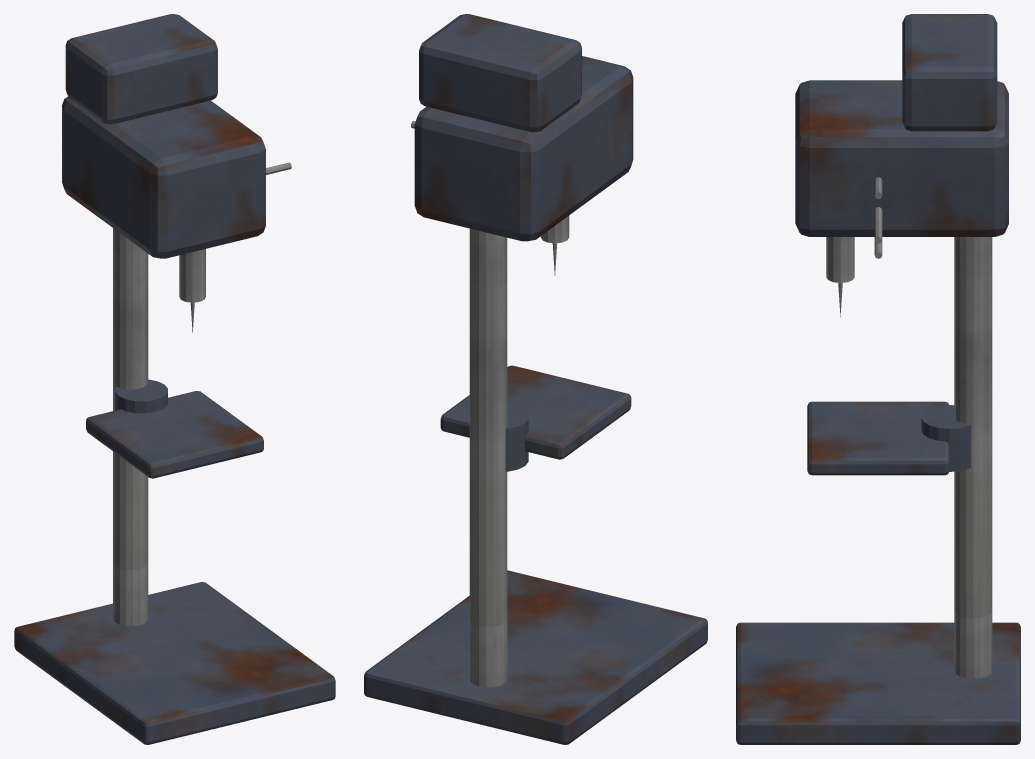
The model's file is HM10_DrillPress.glb.
The picture shows the model from 3 angles, left to right: view 1: azimuth 30°, elevation 25°; view 2: azimuth 150°, elevation 25°; view 3: azimuth 270°, elevation 25°; orthographic projection. The views are drawn at different scales.
Visible parts, largest first — view 1: HM10_DrillPress; view 2: HM10_DrillPress; view 3: HM10_DrillPress.
Part boxes in pixels (x1,y1,x2,y2): HM10_DrillPress: (14,14,335,744); HM10_DrillPress: (364,14,707,744); HM10_DrillPress: (736,14,1020,744).
Bounding box in the file's own units: 0.541 × 1.5 × 0.5902.
2 materials, 2 textured.
